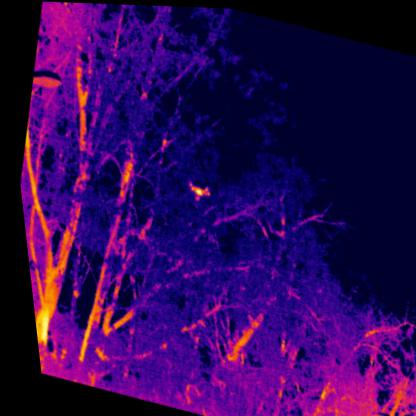drone: (181, 178, 208, 201)
